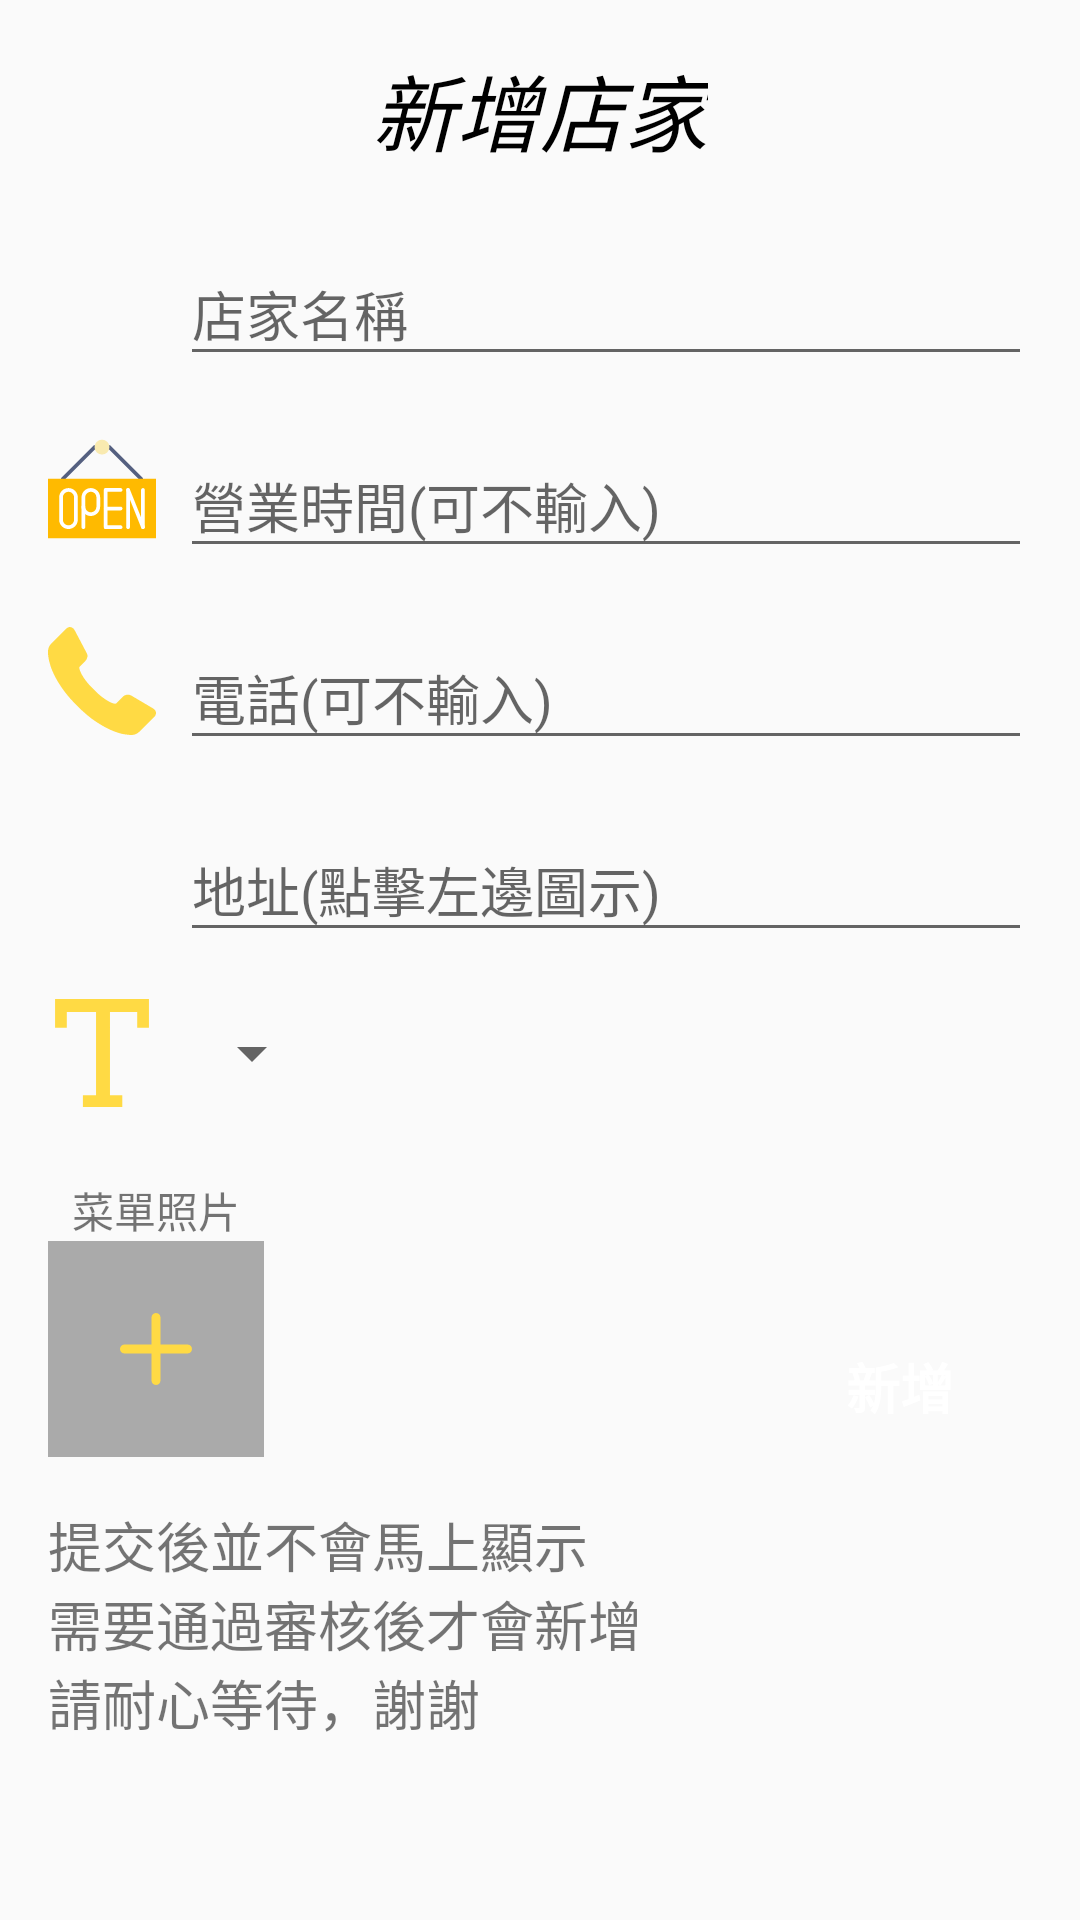

Where icons sit on this 1080px x 1920px app screen, as (x1, y1, x2, y2):
add: (48, 1241, 264, 1457)
phone: (48, 627, 156, 735)
shop type: (55, 999, 149, 1107)
